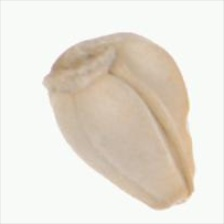L3: (150, 188, 197, 211)
L4: (43, 31, 196, 211)
